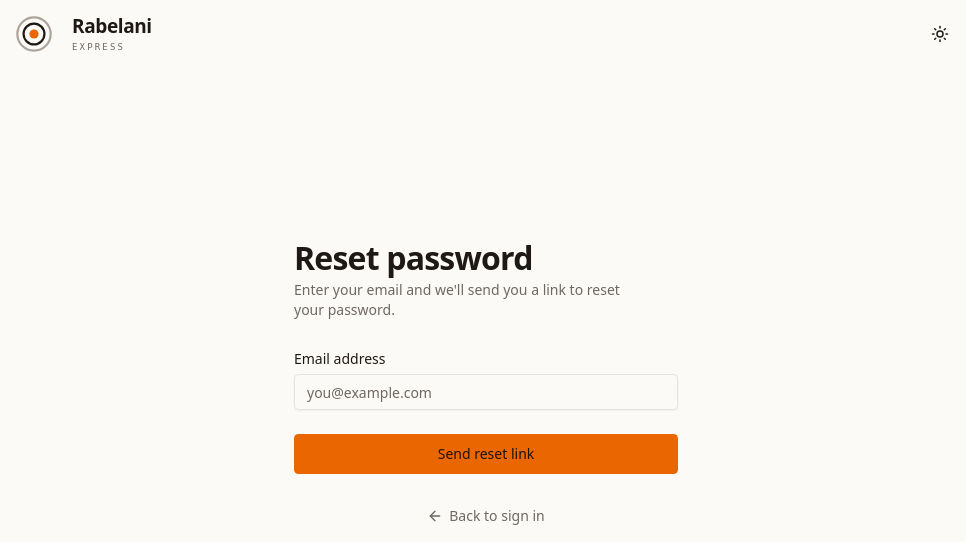
Test: ResetPassword — request mode (integration) › sends a reset link and shows the confirmation screen
The image size is (966, 542).
Check: the heading "Reset password" is shown, box [294, 236, 533, 279]
Type "buyer@acme.co.za" into the field labelled "Email address" at x=486, y=392, box [294, 374, 678, 410]
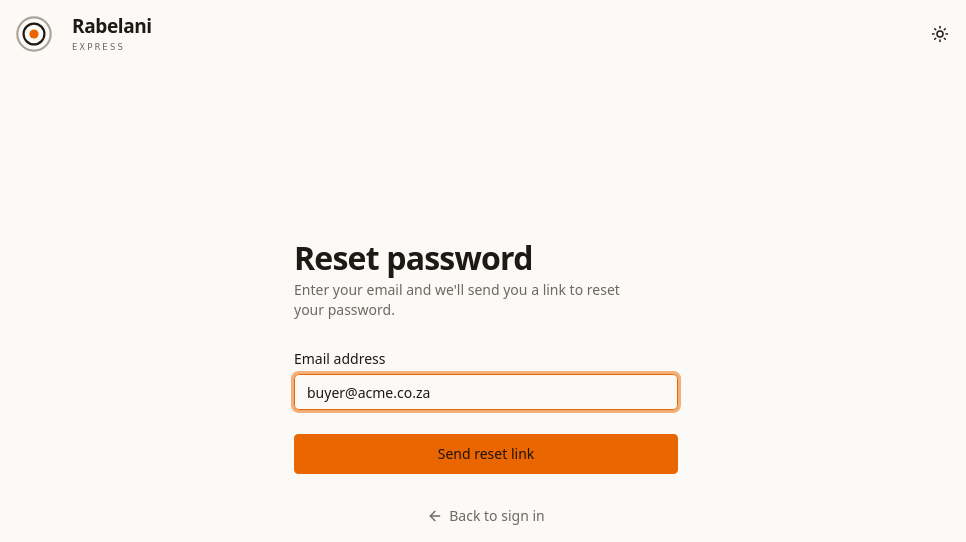
Click the button "Send reset link" at x=486, y=454, box [294, 434, 678, 474]
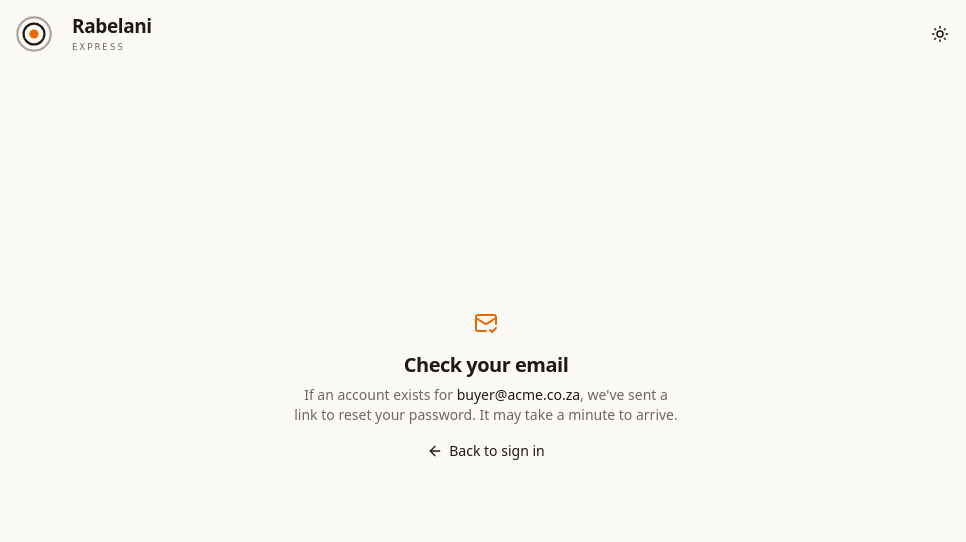
Check: the heading "Check your email" is shown, box [404, 351, 568, 378]
